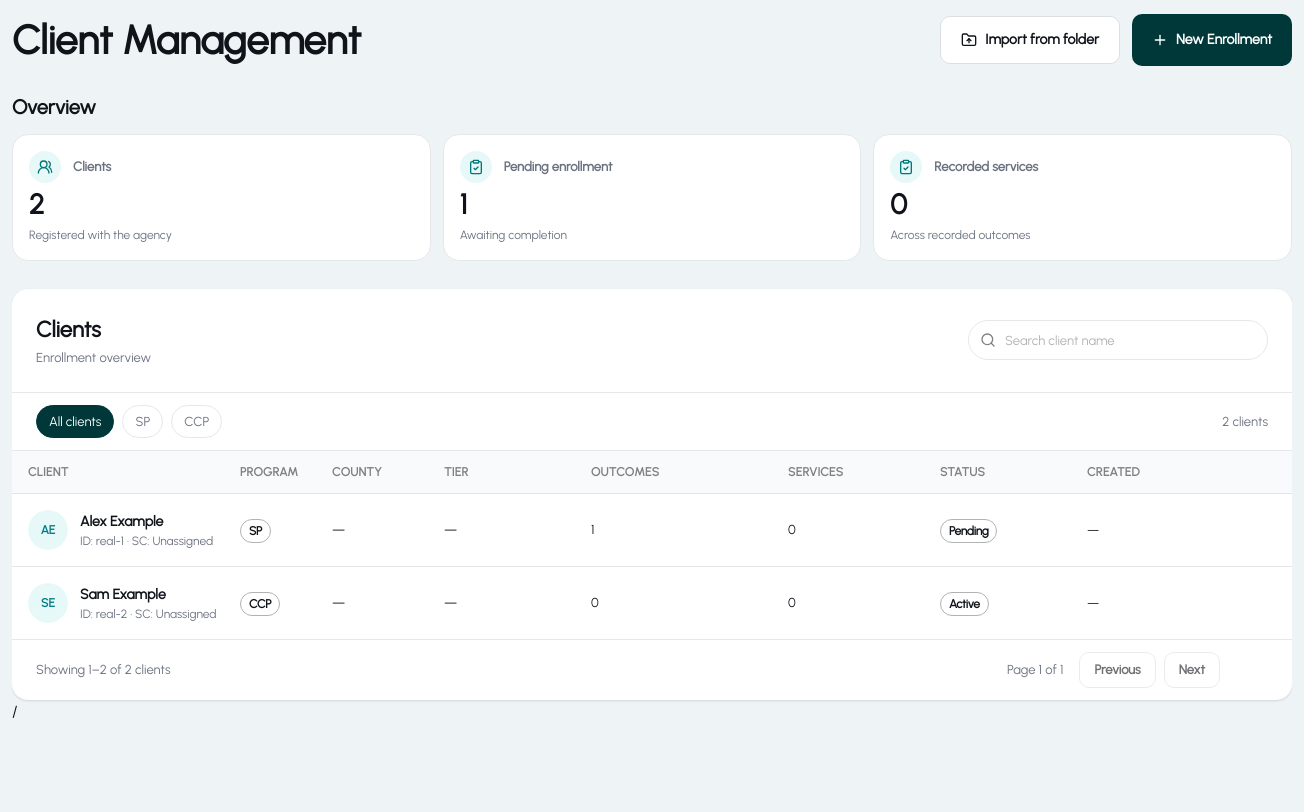
SupportCoordinatorClientsPage › shows saved clients, filters by program, and opens the real client record
The image size is (1304, 812).
Expected: the row named "Open details for Alex Example" is shown, left=12, top=494, right=1292, bottom=567
Click the button "CCP" at (197, 421), box left=171, top=404, right=222, bottom=438
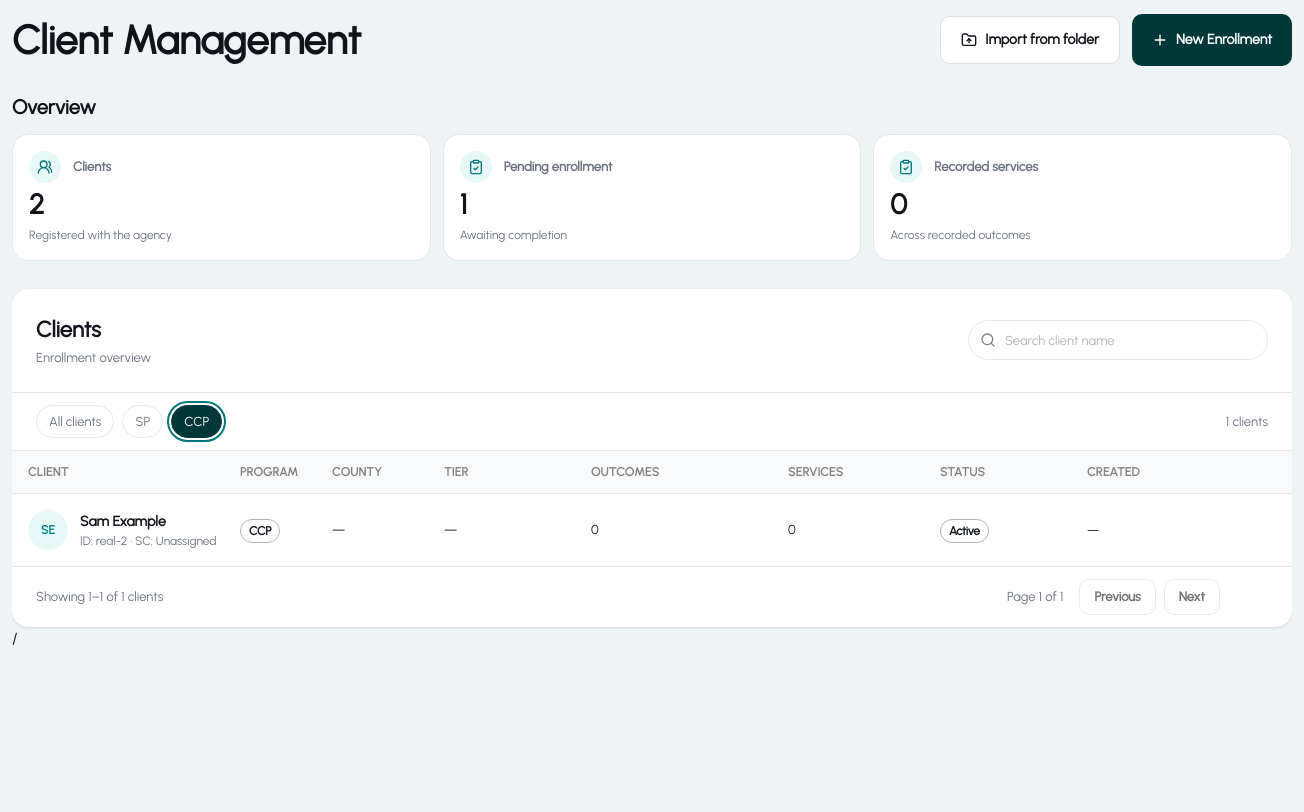
Click the row named "Open details for Sam Example" at (48, 530), box left=28, top=510, right=1099, bottom=550
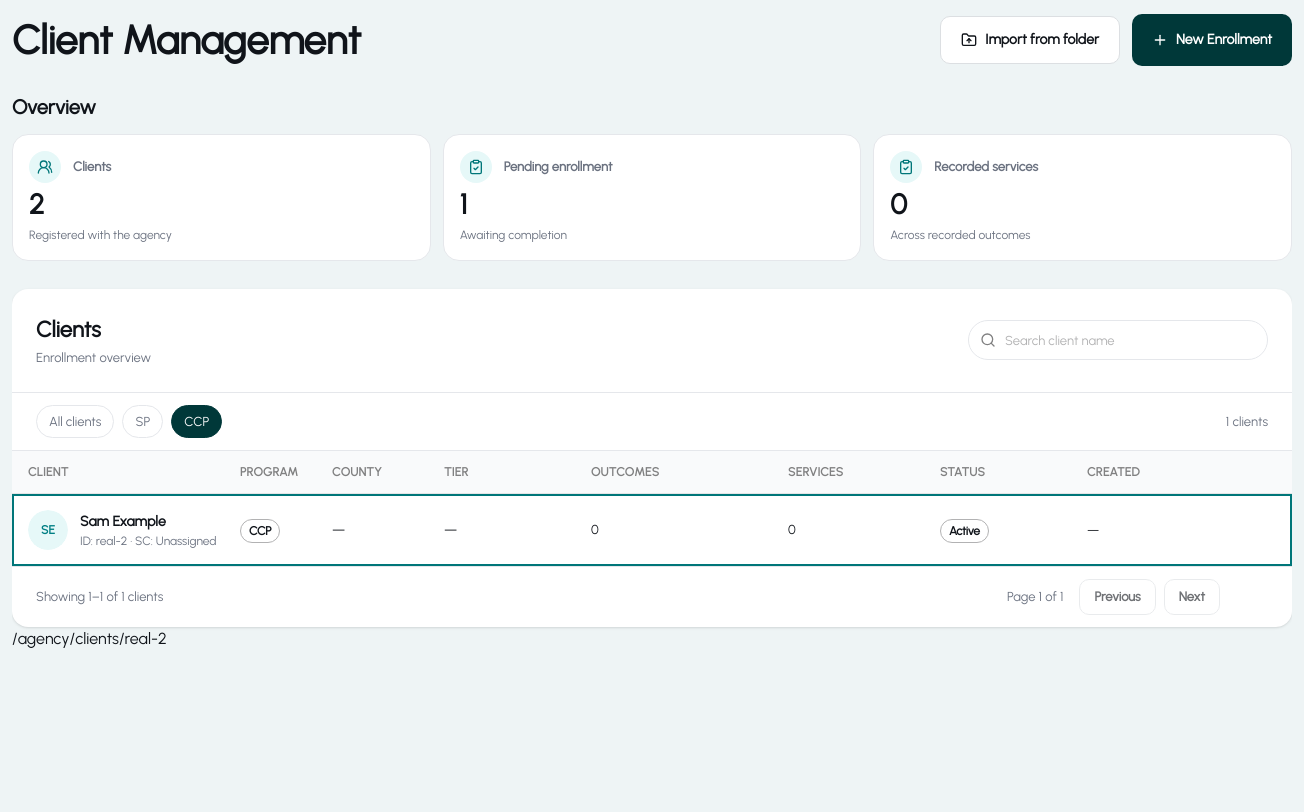
Expected: the text with test id "location" reads "/agency/clients/real-2", left=12, top=629, right=167, bottom=648
